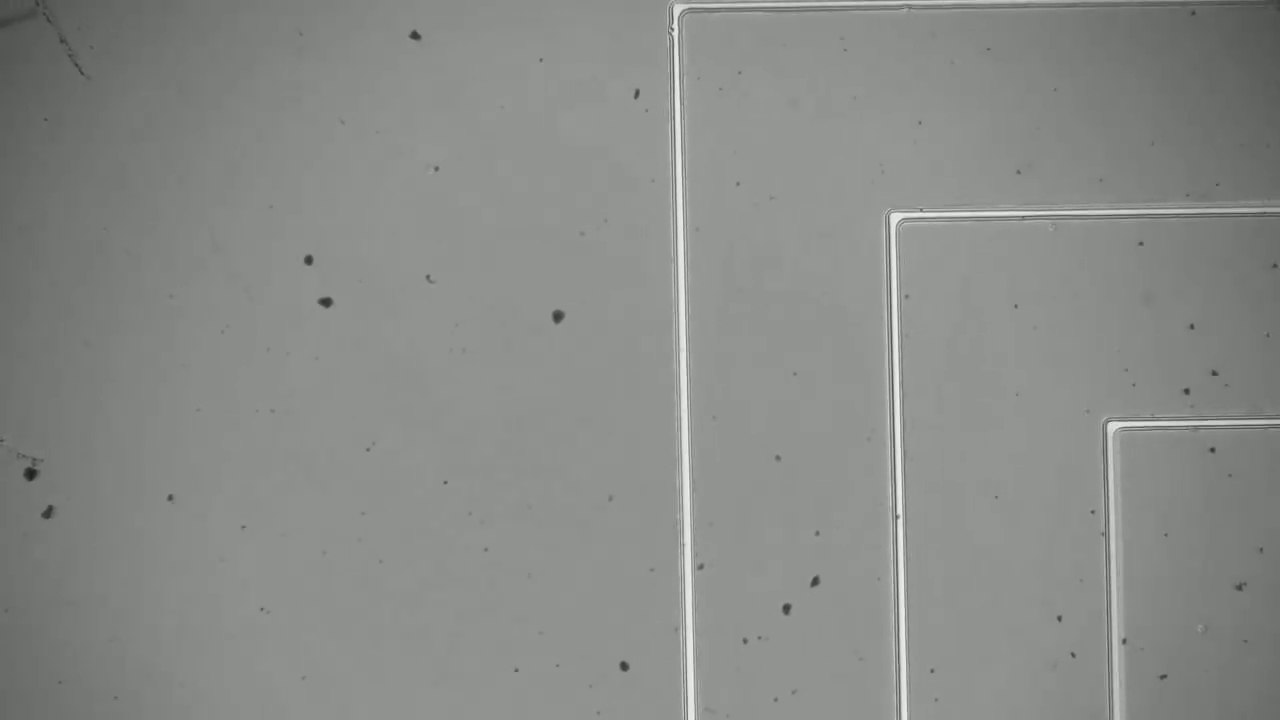scratch: (34, 4, 111, 95)
